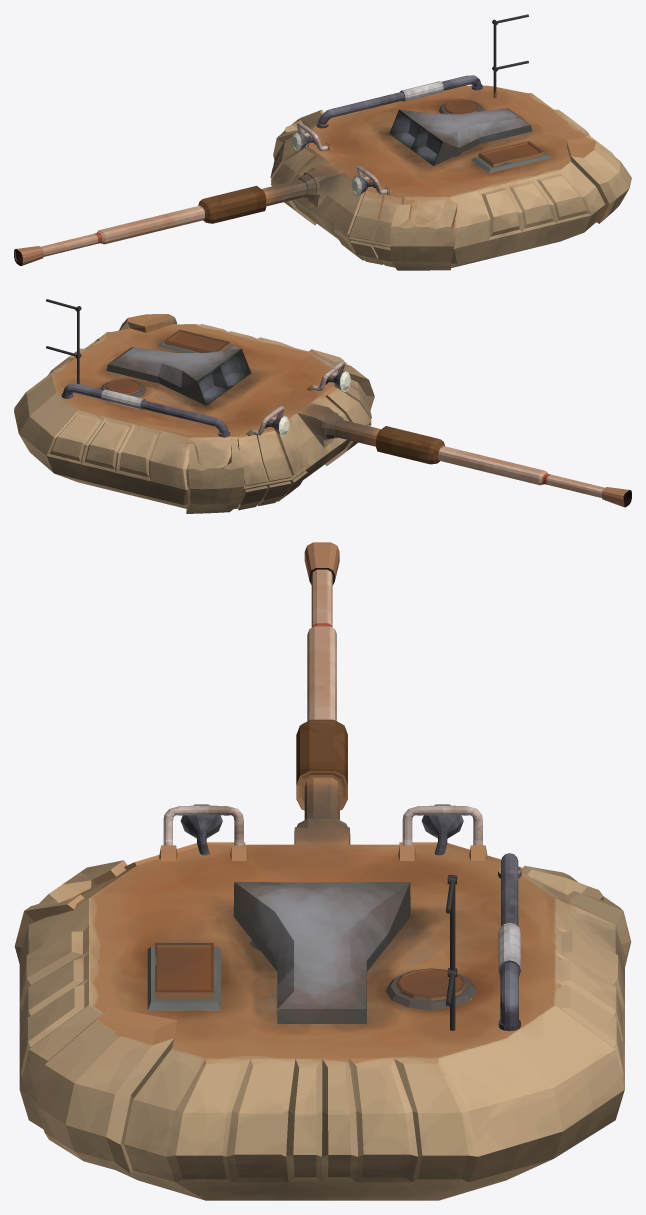
Rendered from SpiderTankTop.fbx.
3 renders of one model, top to bottom at view 1: azimuth 30°, elevation 25°; view 2: azimuth 150°, elevation 25°; view 3: azimuth 270°, elevation 25°, orthographic. The views are drawn at different scales.
Parts seen in each view (by area): view 1: TopBody, FrontBarrel, TopRail; view 2: TopBody, FrontBarrel, TopRail, HeadlightL; view 3: TopBody, FrontBarrel, TopRail, LightrailR, LightrailL, HeadlightR, HeadlightL.
Boxes of the visible parts, x1,y1,x2,y2 form: TopBody: [261, 14, 631, 270]; FrontBarrel: [14, 185, 266, 265]; TopRail: [316, 75, 482, 128]; TopBody: [14, 299, 380, 513]; FrontBarrel: [376, 426, 631, 507]; TopRail: [61, 383, 230, 437]; HeadlightL: [325, 371, 350, 391]; TopBody: [14, 775, 631, 1200]; FrontBarrel: [296, 542, 347, 810]; TopRail: [498, 853, 521, 1031]; LightrailR: [402, 805, 482, 845]; LightrailL: [163, 805, 243, 845]; HeadlightR: [421, 804, 463, 855]; HeadlightL: [180, 804, 222, 855].
Size of the model in its own units: 1306 by 324 by 611.
